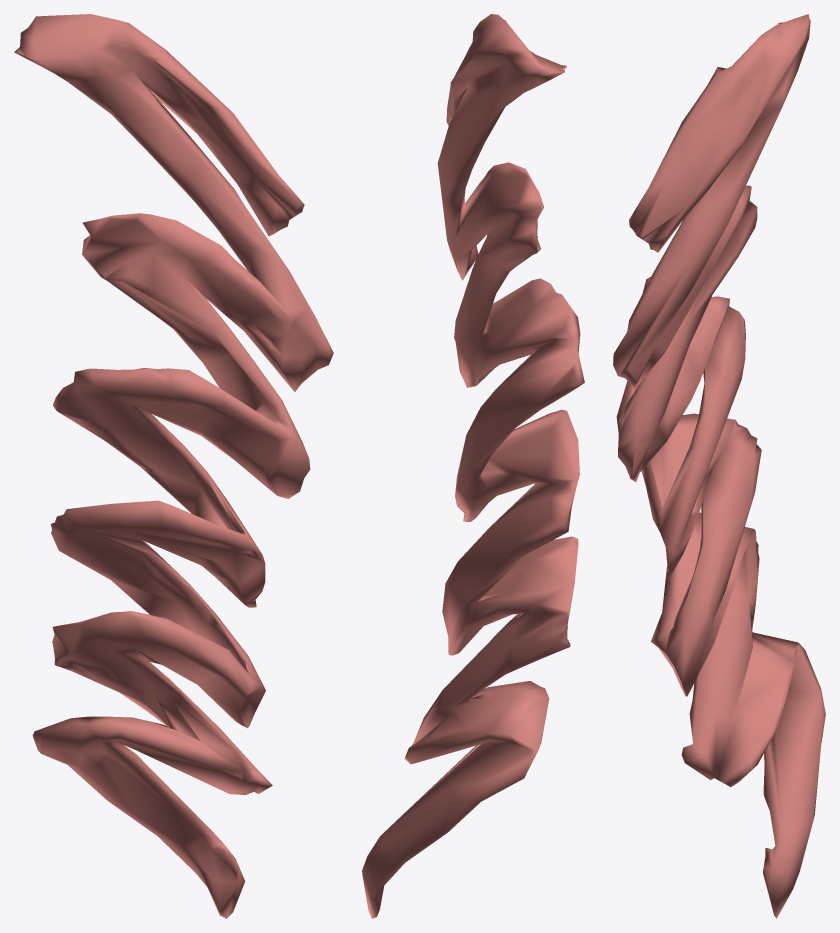
3 renders of one model, left to right at view 1: azimuth 30°, elevation 25°; view 2: azimuth 150°, elevation 25°; view 3: azimuth 270°, elevation 25°, orthographic. The views are drawn at different scales.
Visible parts, largest first — view 1: ZA_4181c89ecc3abf6d; view 2: ZA_4181c89ecc3abf6d; view 3: ZA_4181c89ecc3abf6d.
Part boxes in pixels (box(x1,y1,x2,y2)): ZA_4181c89ecc3abf6d: box(14, 14, 333, 918); ZA_4181c89ecc3abf6d: box(362, 14, 584, 918); ZA_4181c89ecc3abf6d: box(613, 14, 825, 918).
Bounding box in the file's own units: 0.024 × 0.0981 × 0.0226.
